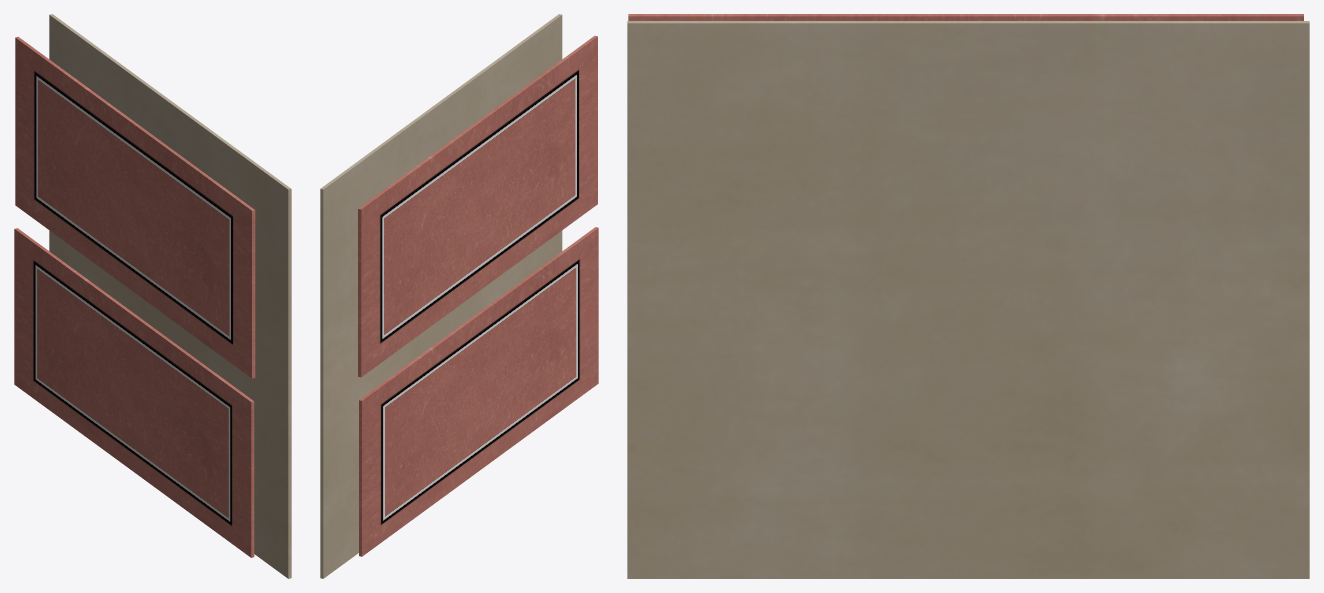
Rendered from SM_SJJ_HG_Wall02D.fbx.
3 renders of one model, left to right at view 1: azimuth 30°, elevation 25°; view 2: azimuth 150°, elevation 25°; view 3: azimuth 270°, elevation 25°, orthographic. The views are drawn at different scales.
Parts seen in each view (by area): view 1: SM_SJJ_HG_Wall02D; view 2: SM_SJJ_HG_Wall02D; view 3: SM_SJJ_HG_Wall02D.
Boxes of the visible parts, x1=… form: SM_SJJ_HG_Wall02D: x1=14, y1=14, x2=291, y2=578; SM_SJJ_HG_Wall02D: x1=320, y1=14, x2=598, y2=578; SM_SJJ_HG_Wall02D: x1=627, y1=14, x2=1309, y2=578.
Size of the model in its own units: 29.22 by 302 by 272.
Materials: 1 (1 with a texture image).
